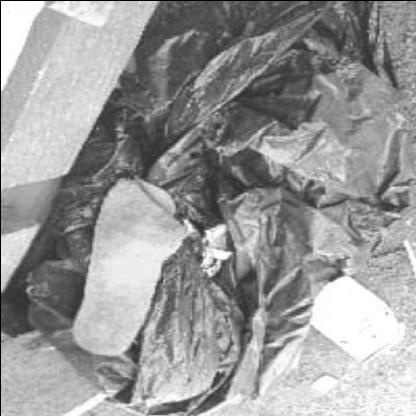objects: (58, 30, 374, 397)
